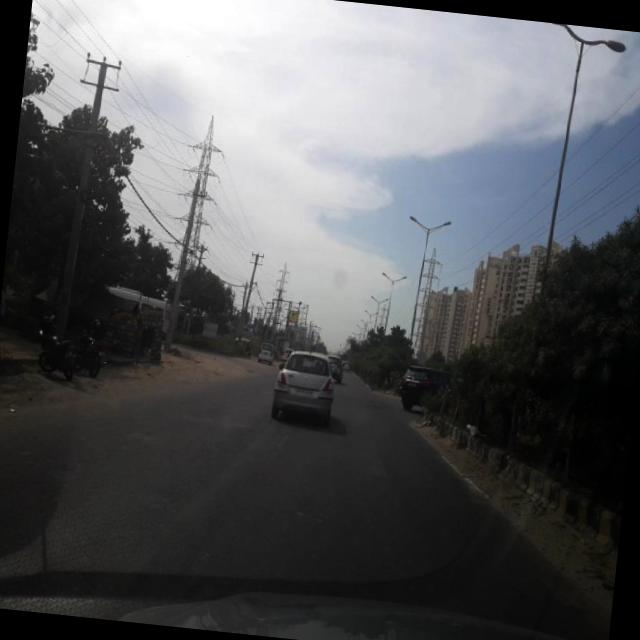crack: (0, 384, 482, 617)
